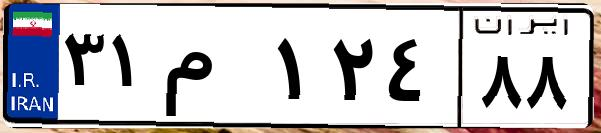1: (270, 28, 330, 110), (110, 28, 158, 98)
2: (330, 28, 385, 110)
3: (57, 26, 110, 100)
4: (385, 28, 445, 110)
8: (475, 38, 525, 113), (525, 38, 570, 115)
م: (158, 20, 270, 120)
